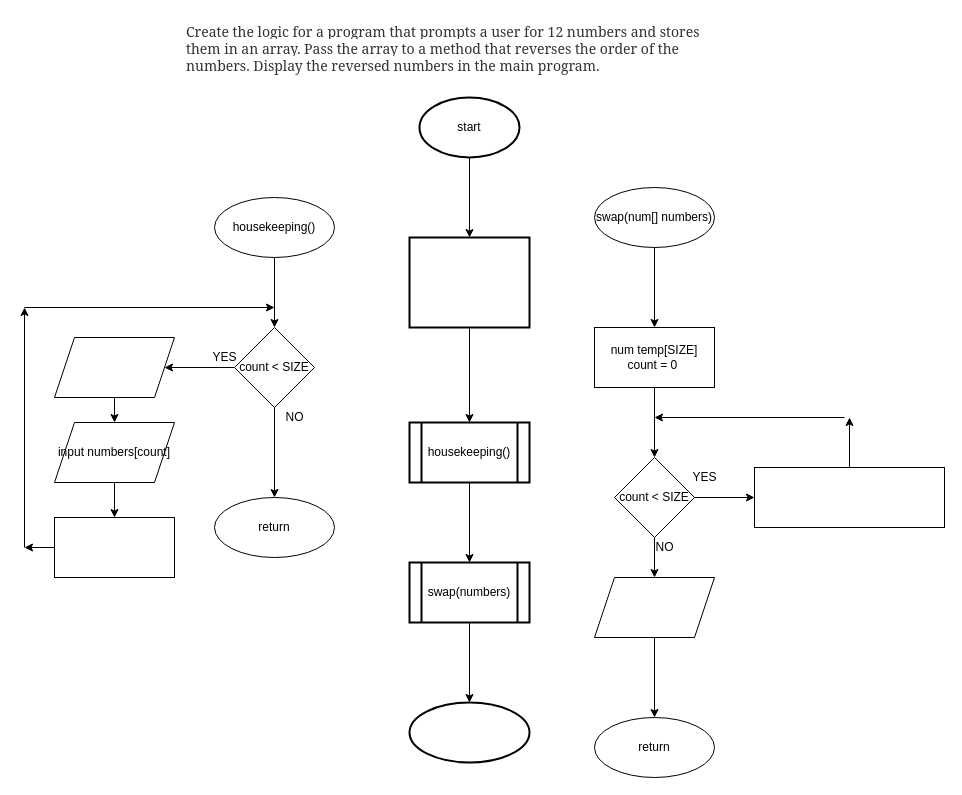
Image size: 962x795. Some labels were removed from this diagram. Each missing label, with the centre of its shape:
count += 1: pixel 114 547
Declarations num size = 12 num SIZE = 12 num numbers[SIZE] num count = 0: pixel 469 282
output "Enter number " count + 1: pixel 114 367
output temp: pixel 654 607
stop: pixel 469 732
temp[count] = numbers[size] count += 1 size -= 1: pixel 849 497
